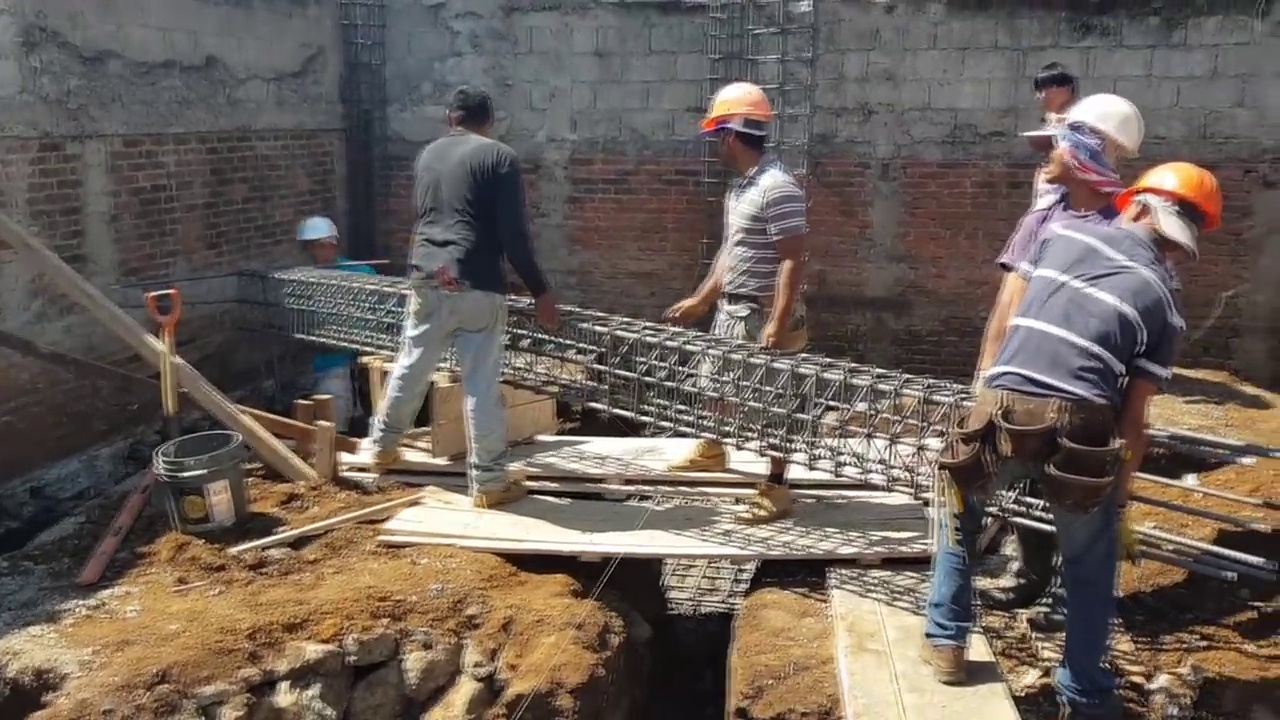helmet: (1112, 159, 1228, 229), (1058, 91, 1146, 160), (703, 82, 778, 130), (294, 214, 340, 244)
helmet-off: (1027, 60, 1076, 115), (446, 84, 495, 137)
helmet-on: (1043, 89, 1144, 216), (1112, 162, 1230, 257), (698, 79, 781, 174), (295, 215, 340, 267)
person: (915, 162, 1233, 720), (363, 82, 560, 507), (664, 80, 809, 524), (967, 93, 1153, 392), (294, 219, 376, 422)
